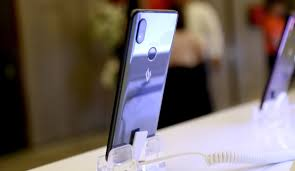vsmart: (103, 9, 178, 158)
